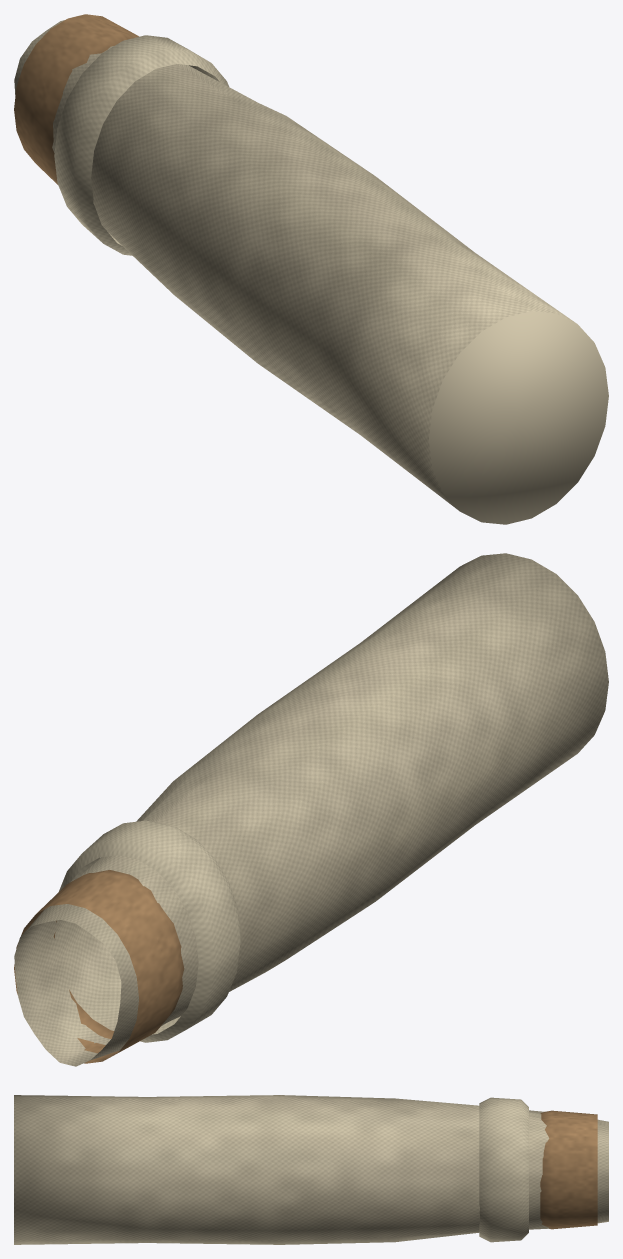
File: fp_forearm_storybook_cloth.glb
3 views of the same model, one above another, from view 1: azimuth 30°, elevation 25°; view 2: azimuth 150°, elevation 25°; view 3: azimuth 270°, elevation 25° (orthographic). The views are drawn at different scales.
Parts seen in each view (by area): view 1: fp_forearm; view 2: fp_forearm; view 3: fp_forearm.
Part boxes in pixels (box(x1,y1,x2,y2)): fp_forearm: box(14, 14, 608, 524); fp_forearm: box(14, 553, 608, 1066); fp_forearm: box(14, 1095, 608, 1244).
Size of the model in its own units: 0.072 by 0.0792 by 0.312.
2 materials, 2 textured.
